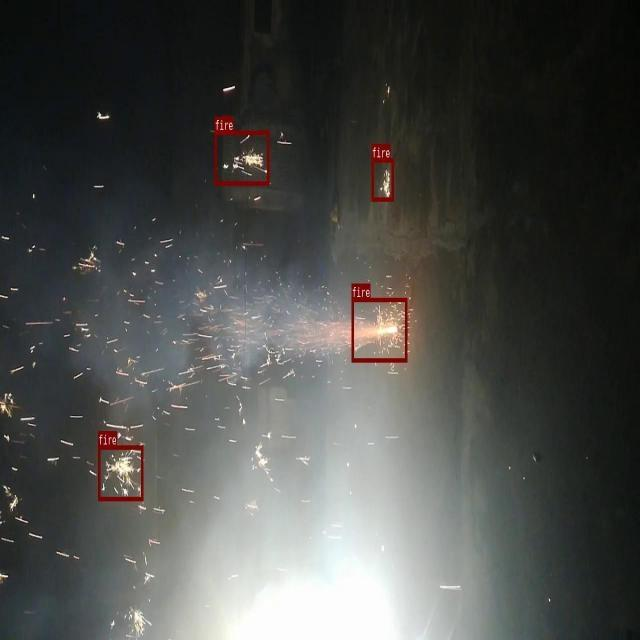fire: (351, 297, 407, 361), (215, 131, 269, 185), (98, 445, 143, 500), (371, 158, 393, 201)
